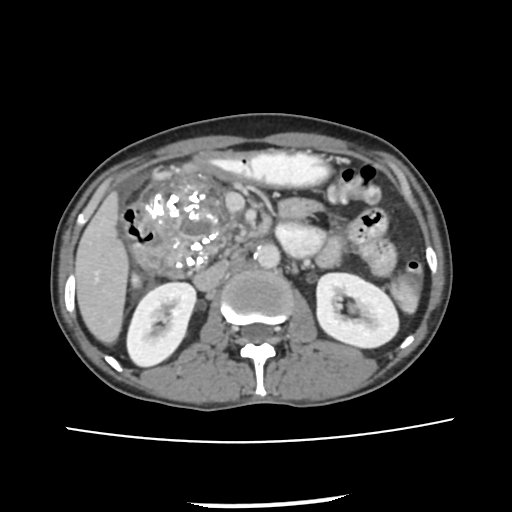aorta: (253, 241, 281, 269)
